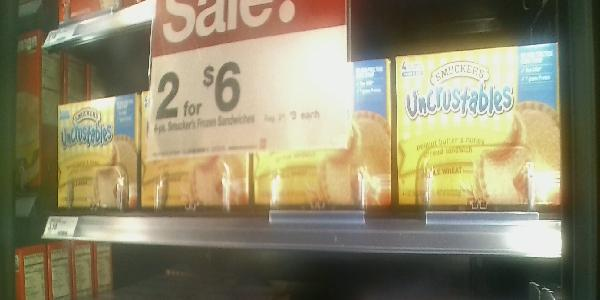icecream: (392, 36, 565, 208), (246, 54, 393, 211), (138, 91, 253, 214), (51, 92, 141, 210)
